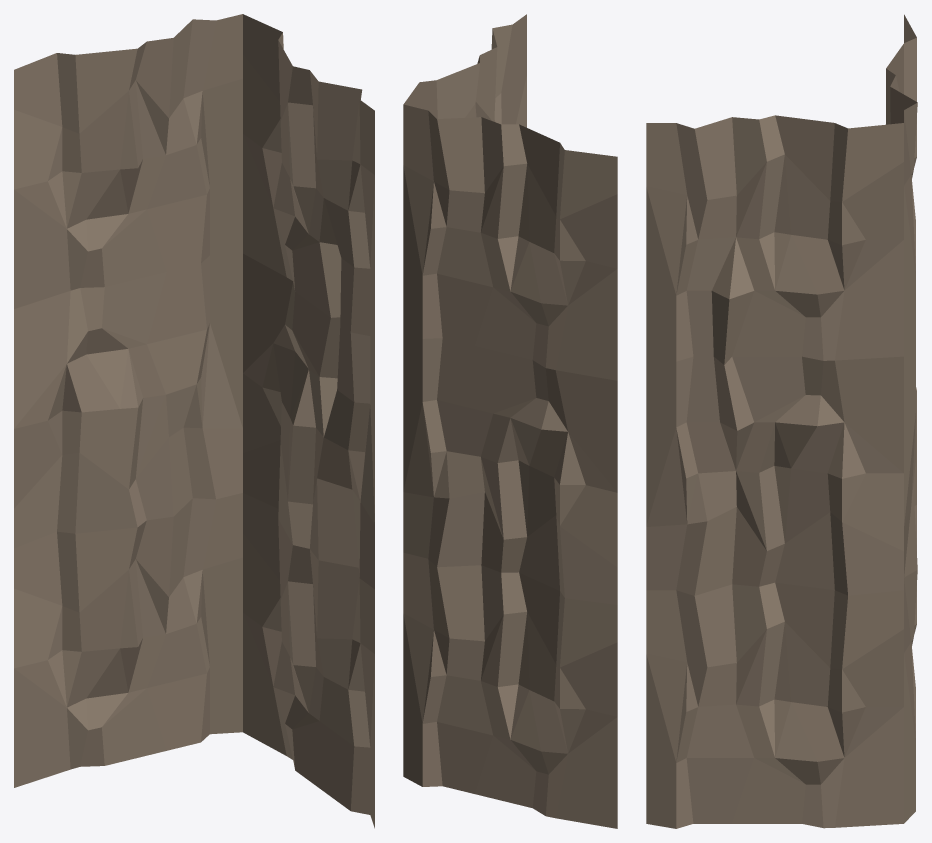
The model's file is ER_Terrain_3x1_Dirt_CornerInverted_001_A.fbx.
The picture shows the model from 3 angles, left to right: view 1: azimuth 30°, elevation 25°; view 2: azimuth 150°, elevation 25°; view 3: azimuth 270°, elevation 25°; orthographic projection. The views are drawn at different scales.
Parts seen in each view (by area): view 1: ER_Terrain_3x1_Dirt_CornerInverted_001_A; view 2: ER_Terrain_3x1_Dirt_CornerInverted_001_A; view 3: ER_Terrain_3x1_Dirt_CornerInverted_001_A.
Boxes of the visible parts, x1,y1,x2,y2 form: ER_Terrain_3x1_Dirt_CornerInverted_001_A: [14, 14, 374, 828]; ER_Terrain_3x1_Dirt_CornerInverted_001_A: [403, 14, 617, 828]; ER_Terrain_3x1_Dirt_CornerInverted_001_A: [646, 14, 917, 828].
Bounding box in the file's own units: 1.08 × 3 × 1.05.
